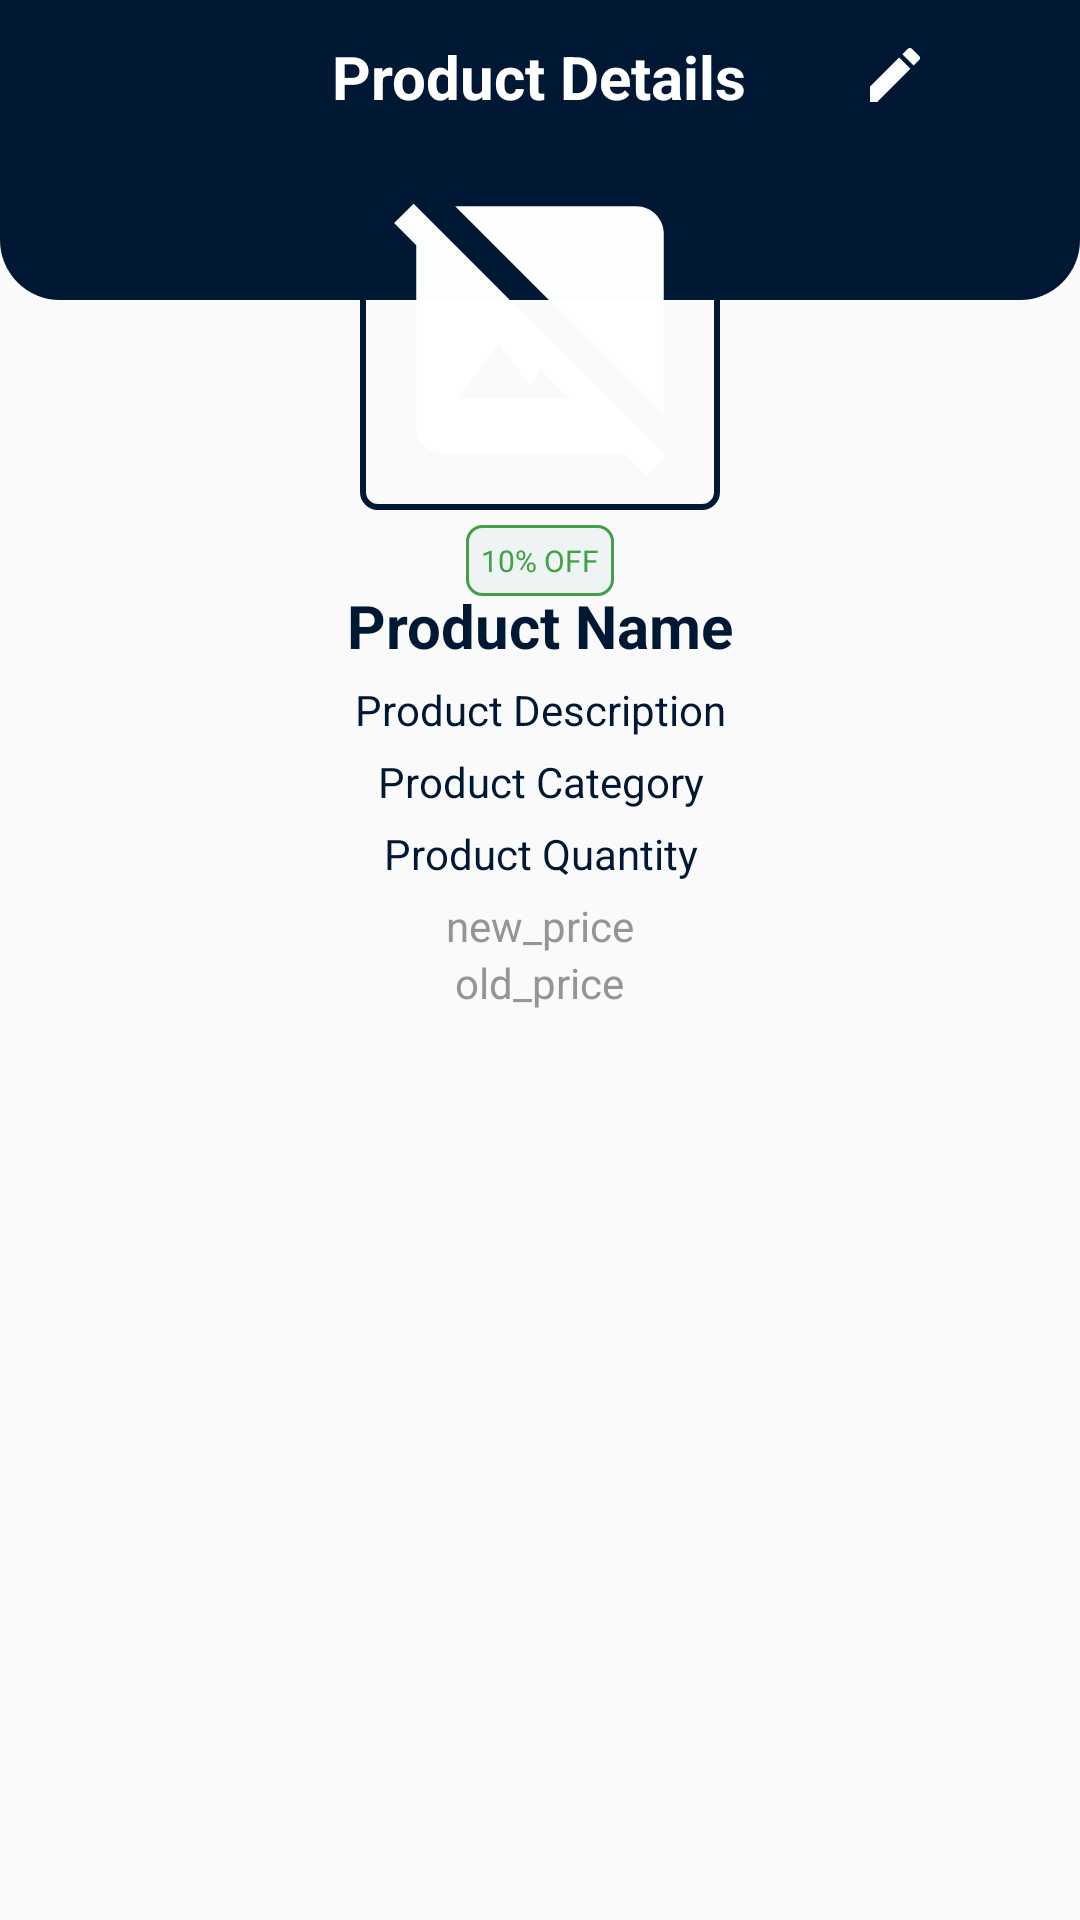

Named icons in this screenshot (1080px×1920px) and their bounding boxes, (x1, y1, x2, y2):
edit: (870, 48, 920, 102)
